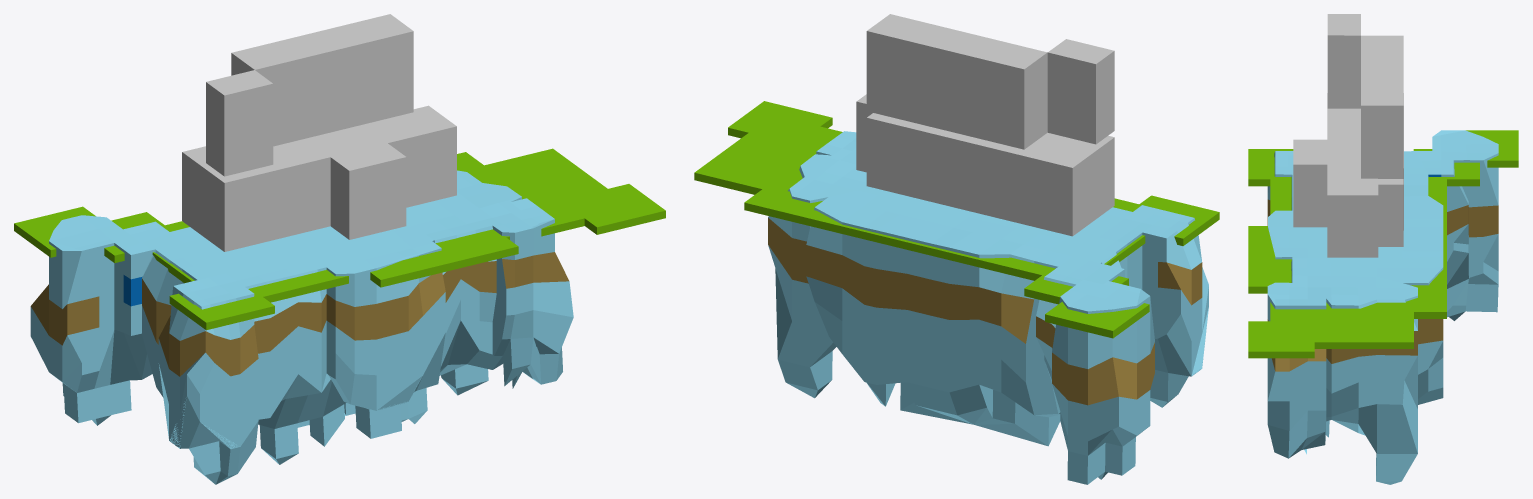
The model's file is level0_FUNDOTESTE.fbx.
3 views of the same model, side by side, from view 1: azimuth 30°, elevation 25°; view 2: azimuth 150°, elevation 25°; view 3: azimuth 270°, elevation 25° (orthographic). The views are drawn at different scales.
Visible parts, largest first — view 1: Ground_001, 1_Floor, Plane, Ground; view 2: Ground_001, Plane, 1_Floor, Ground; view 3: Ground_001, Ground, 1_Floor, Plane.
Part boxes in pixels (x1,y1,x2,y2): Ground_001: (30, 170, 573, 484); 1_Floor: (182, 105, 456, 251); Plane: (206, 14, 413, 176); Ground: (14, 148, 665, 330); Ground_001: (768, 131, 1208, 484); Plane: (866, 14, 1114, 149); 1_Floor: (856, 94, 1114, 236); Ground: (694, 101, 1219, 338); Ground_001: (1267, 130, 1498, 484); Ground: (1248, 130, 1518, 358); 1_Floor: (1293, 93, 1403, 257); Plane: (1327, 14, 1403, 178).
Bounding box in the file's own units: 69.08 × 51.4 × 35.71.
